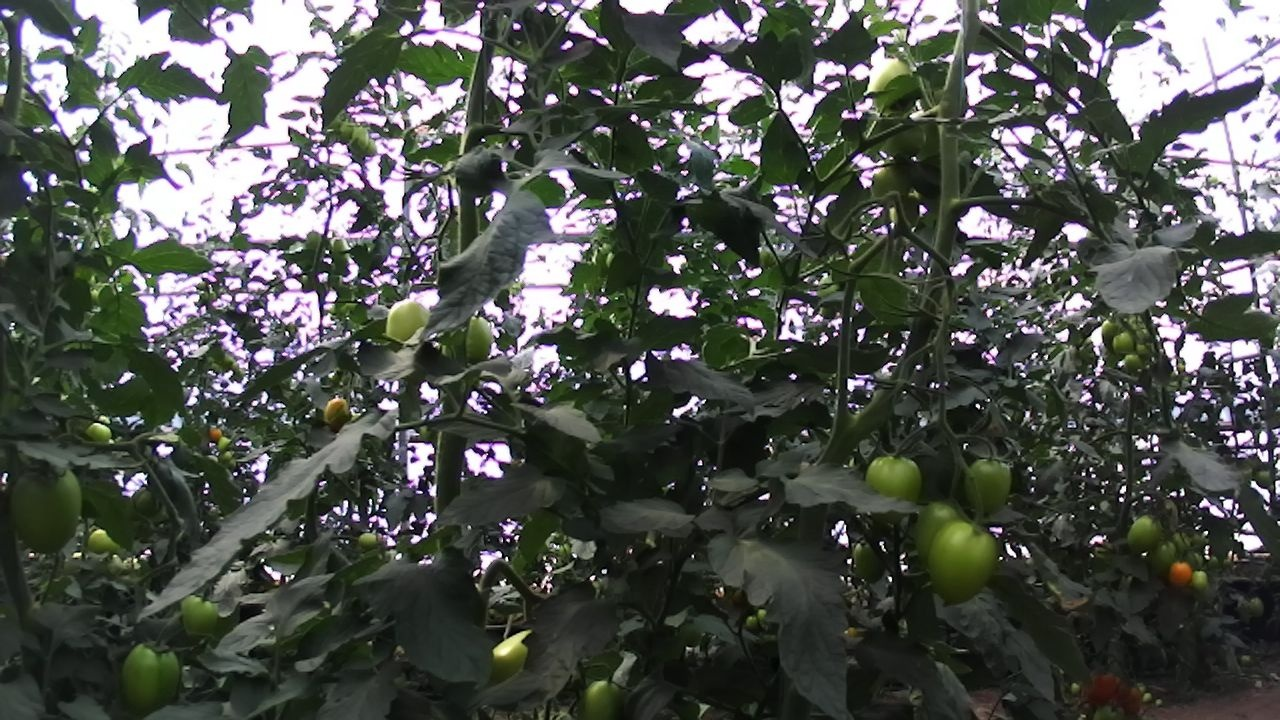tomato: (4, 444, 107, 575), (914, 504, 1012, 620), (107, 624, 198, 720), (468, 604, 559, 697), (855, 437, 930, 539), (904, 487, 981, 582), (954, 446, 1024, 526), (866, 48, 925, 123), (568, 670, 645, 720), (433, 307, 495, 369), (165, 589, 229, 648), (870, 109, 934, 167), (378, 292, 436, 354), (843, 531, 892, 590), (865, 155, 916, 209), (1120, 505, 1168, 561), (1080, 661, 1125, 710), (79, 520, 127, 565), (318, 392, 359, 436), (1144, 533, 1180, 580), (1160, 553, 1197, 593), (1114, 677, 1148, 720), (1095, 315, 1128, 359), (83, 415, 118, 453), (1233, 591, 1270, 623), (1109, 327, 1142, 361), (324, 235, 356, 270), (345, 120, 373, 156), (1249, 463, 1280, 492), (1185, 564, 1211, 595), (334, 114, 358, 146), (1120, 347, 1145, 376), (354, 528, 383, 553), (358, 133, 382, 160), (740, 611, 765, 635), (203, 422, 226, 444), (214, 432, 236, 454), (216, 445, 235, 465)
